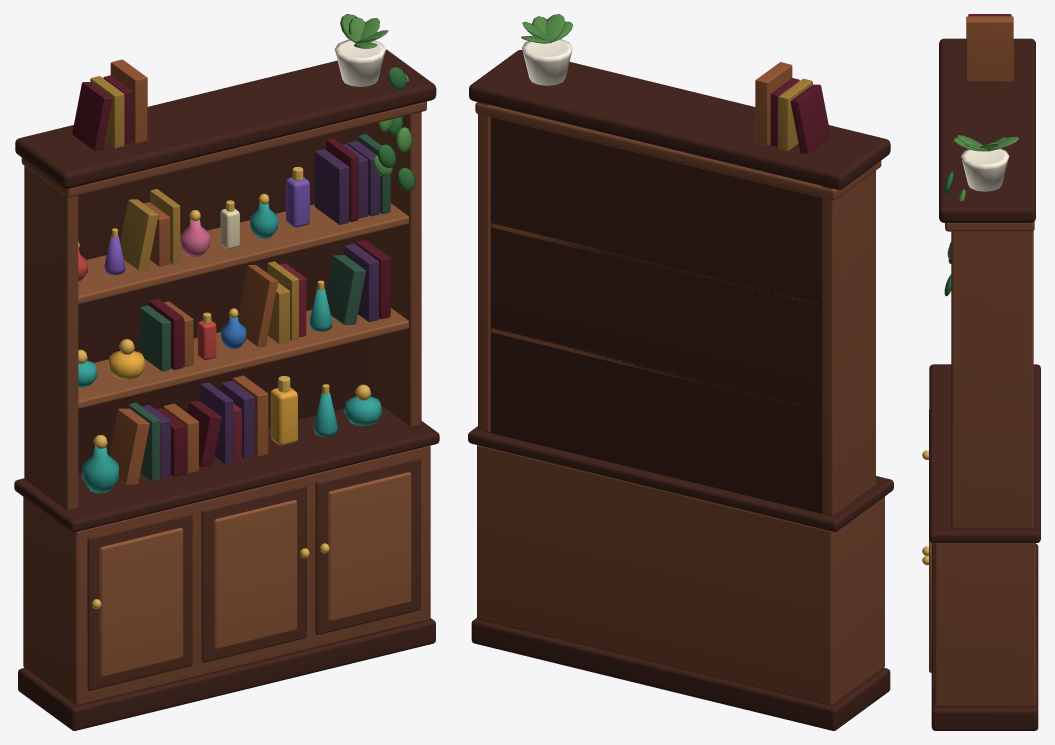
File: shelf-tall-b.glb
3 views of the same model, side by side, from view 1: azimuth 30°, elevation 25°; view 2: azimuth 150°, elevation 25°; view 3: azimuth 270°, elevation 25° (orthographic). The views are drawn at different scales.
Parts seen in each view (by area): view 1: shelf-tall-b; view 2: shelf-tall-b; view 3: shelf-tall-b.
Boxes of the visible parts, x1,y1,x2,y2 form: shelf-tall-b: (14, 14, 439, 730); shelf-tall-b: (468, 14, 893, 730); shelf-tall-b: (922, 14, 1040, 730).
Bounding box in the file's own units: 1.68 × 2.66 × 0.49.
